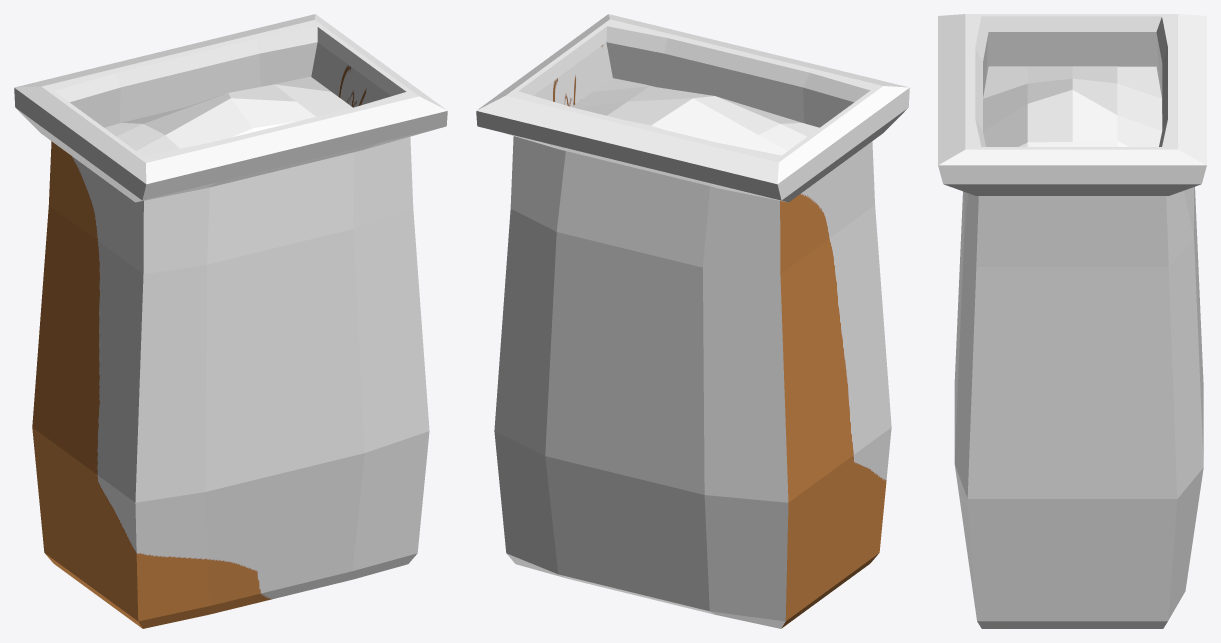
Rendered from Prop masak_Flour.fbx.
3 renders of one model, left to right at view 1: azimuth 30°, elevation 25°; view 2: azimuth 150°, elevation 25°; view 3: azimuth 270°, elevation 25°, orthographic.
Visible parts, largest first — view 1: Flour; view 2: Flour; view 3: Flour.
Boxes of the visible parts, <box> form: Flour: <box>14,14,447,628</box>; Flour: <box>476,14,909,628</box>; Flour: <box>938,14,1206,628</box>.
Bounding box in the file's own units: 18.33 × 27.23 × 13.8.
